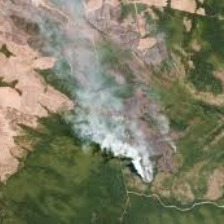incendio: (101, 131, 187, 190)
